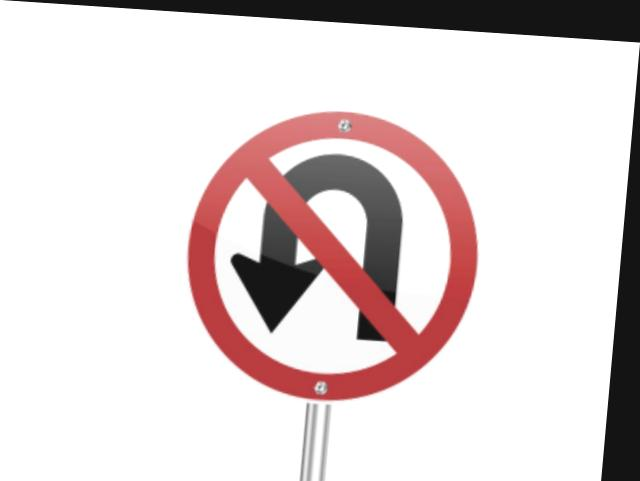not_u_turn_left: (181, 96, 502, 420)
